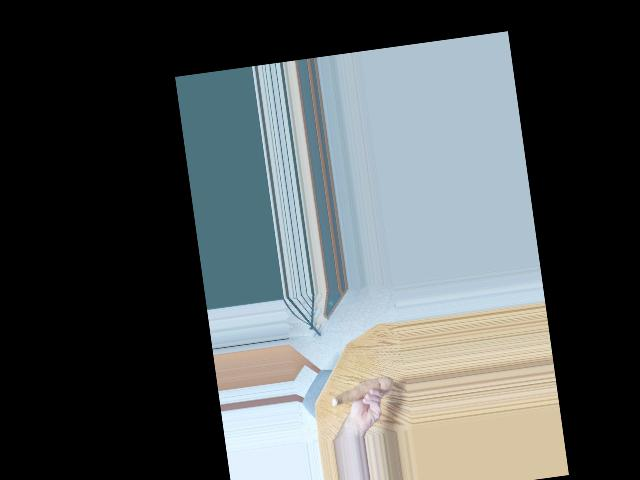sweet_potato: (331, 373, 392, 408)
